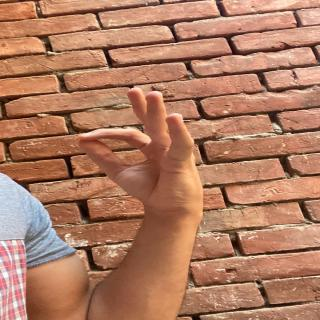Space: (74, 84, 205, 196)
